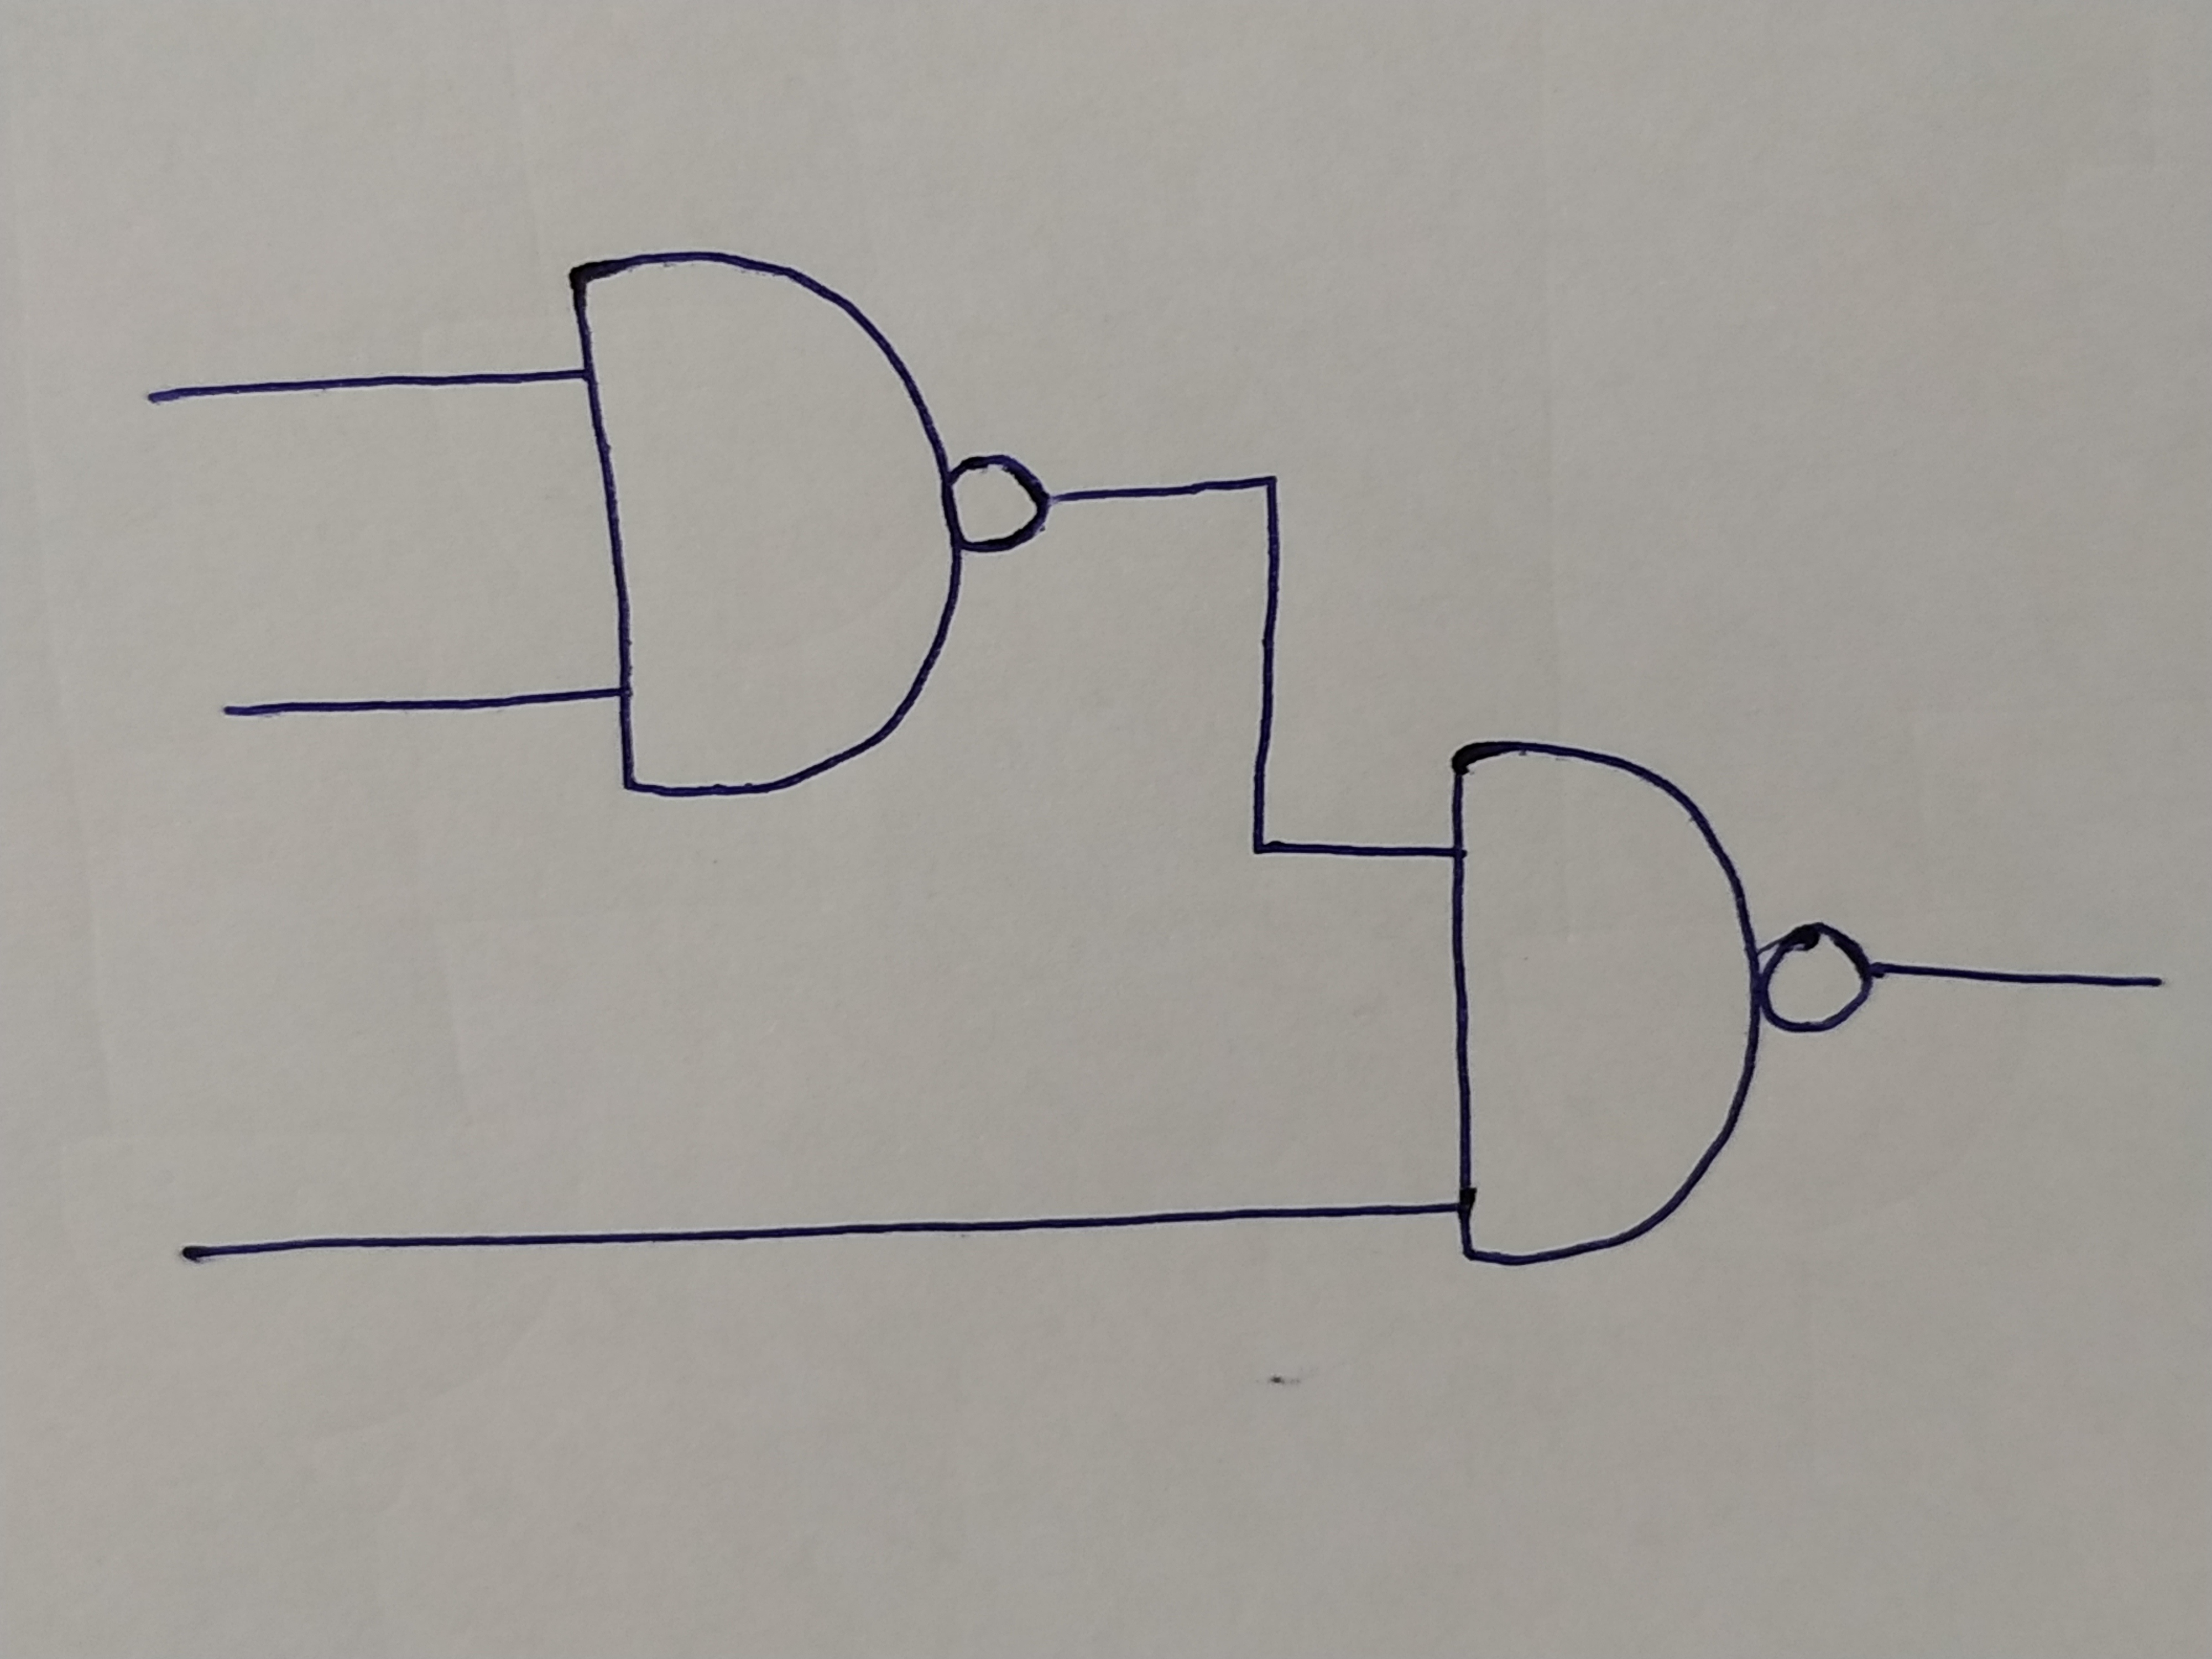and: (577, 253, 954, 798), (1449, 732, 1763, 1262)
not: (1768, 922, 1871, 1032), (953, 455, 1049, 551)
